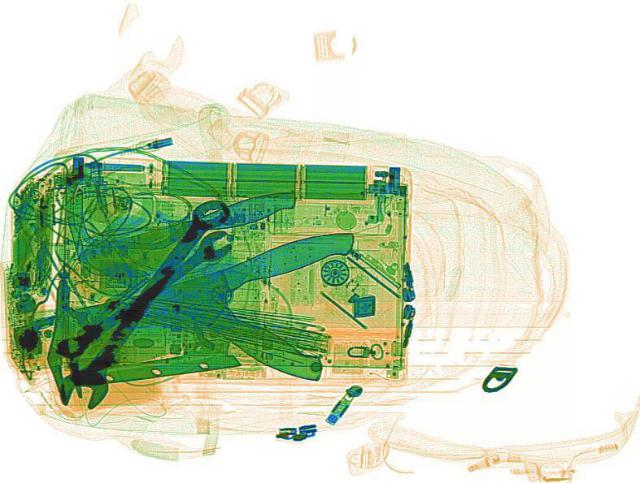Knife: (64, 204, 363, 391), (49, 224, 364, 333), (70, 185, 302, 268)
Wrench: (46, 192, 240, 413), (43, 225, 243, 362)
